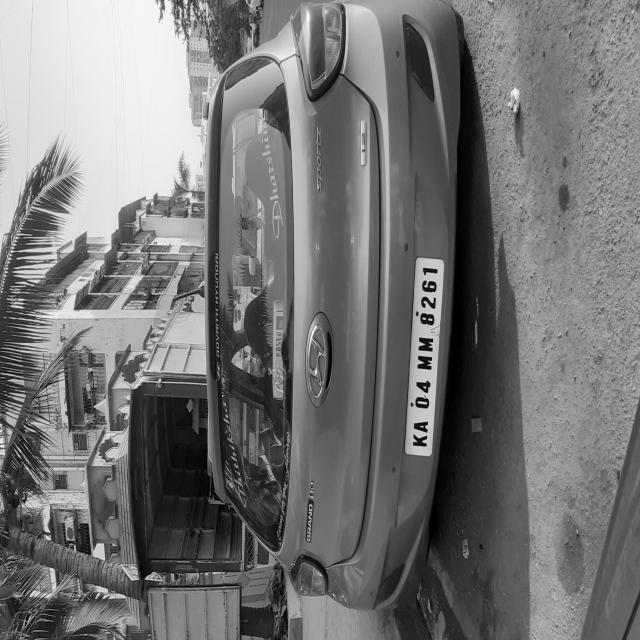car: (14, 415, 311, 640)
